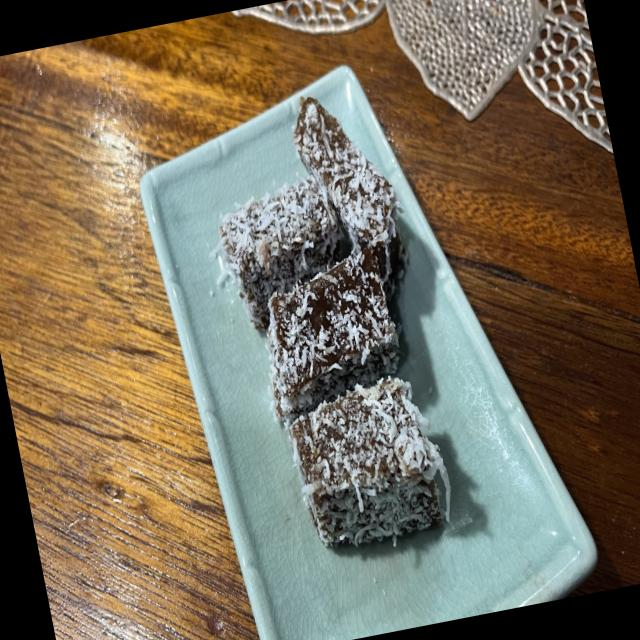kaswi: (289, 377, 451, 547), (268, 247, 399, 426), (293, 97, 407, 300), (217, 177, 343, 330)
